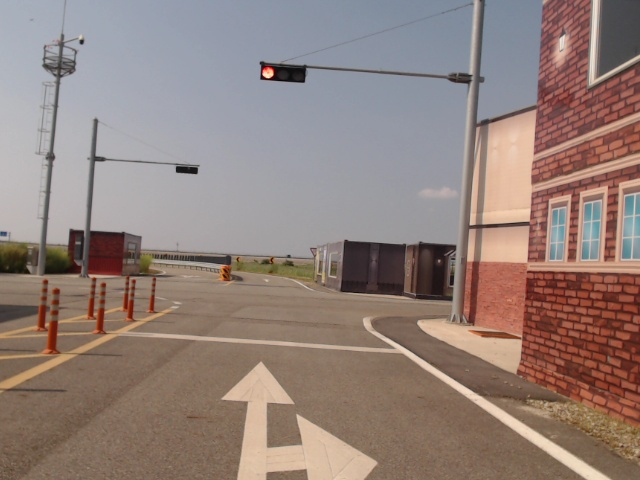red_3: (261, 62, 307, 83)
